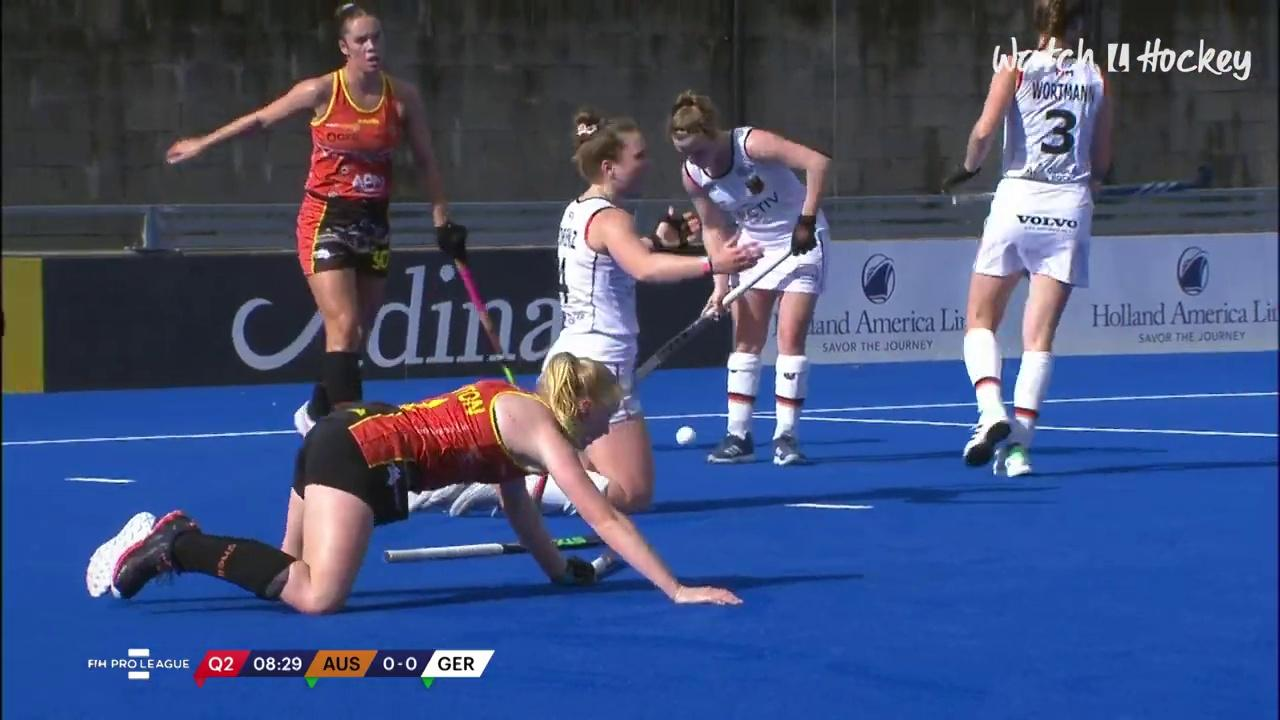ball: (660, 414, 703, 448)
